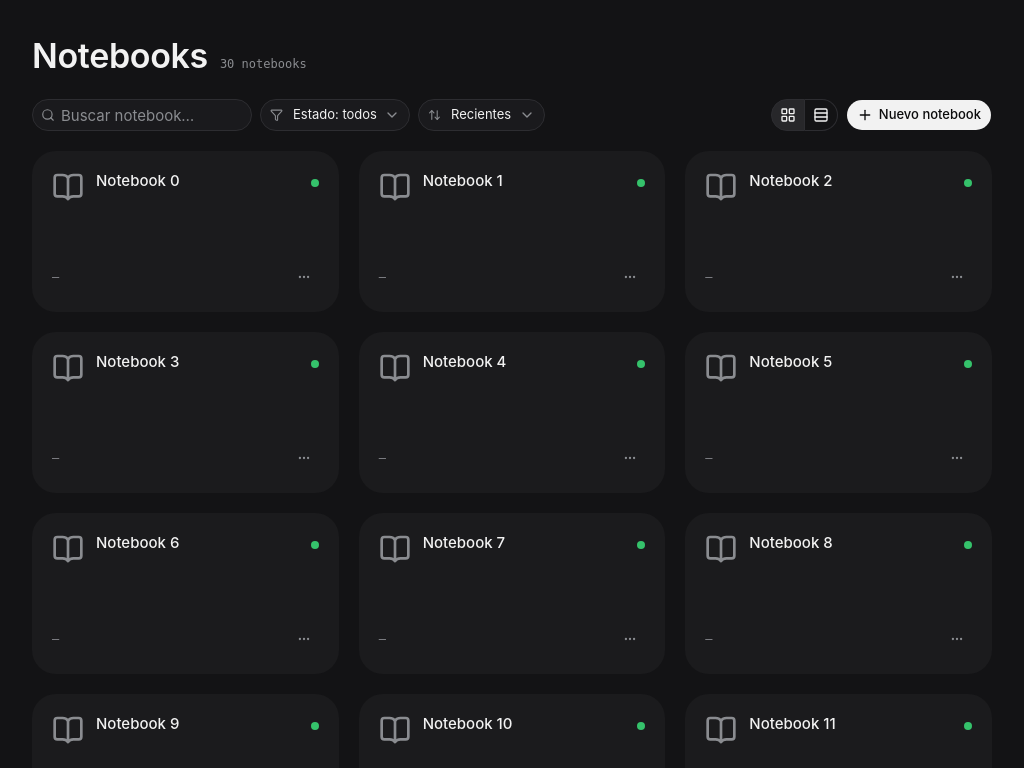
Test case: Enter en el buscador dispara la búsqueda sin esperar el debounce
The width and height of the screenshot is (1024, 768).
Expected: the text "Notebook 0" is shown, [96,171,180,190]
Type "Notebook 1" into the field with placeholder "Buscar notebook…" at (153, 115), box [55,99,251,131]
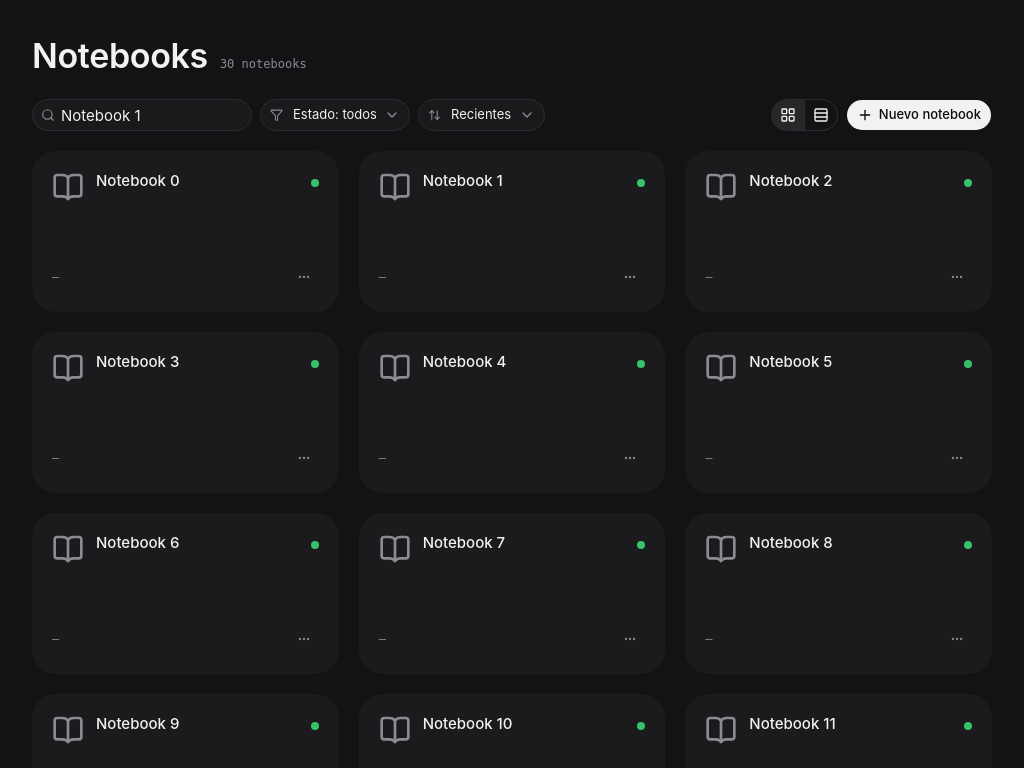
Press Enter in the field with placeholder "Buscar notebook…", box [55,99,251,131]
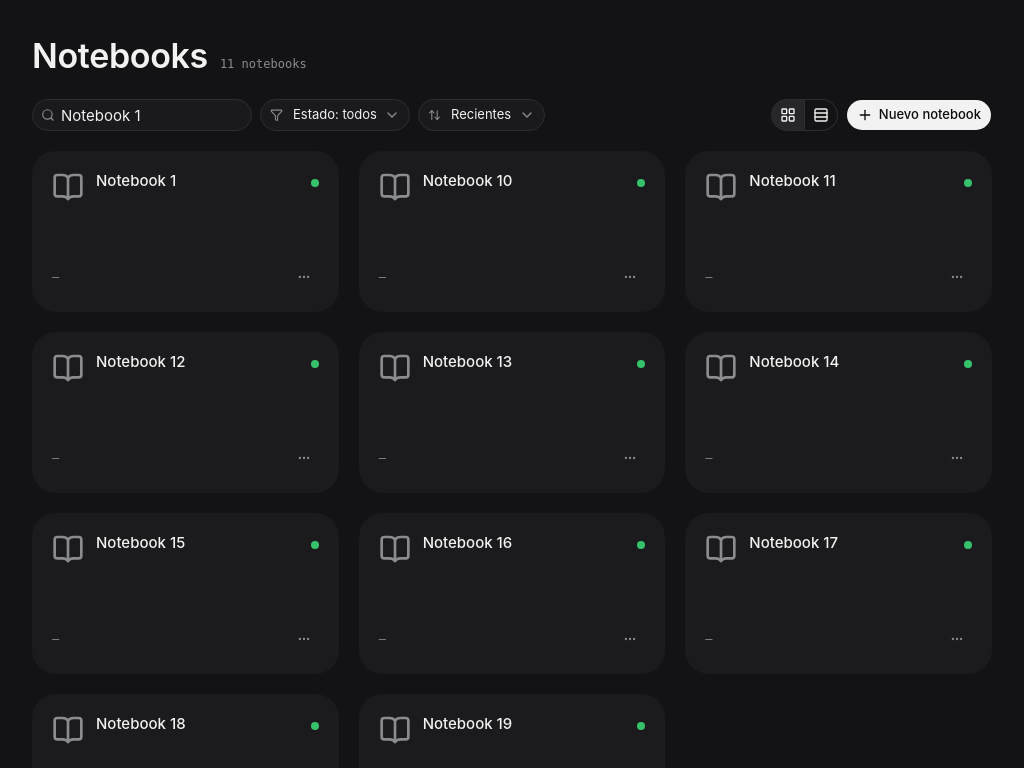
Expected: the text "11 notebooks" is shown, [220,56,307,73]
